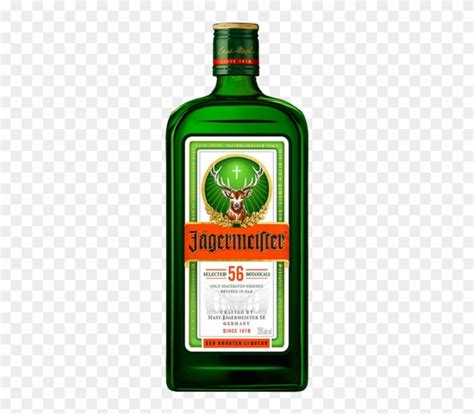alcohol: (162, 22, 311, 394)
